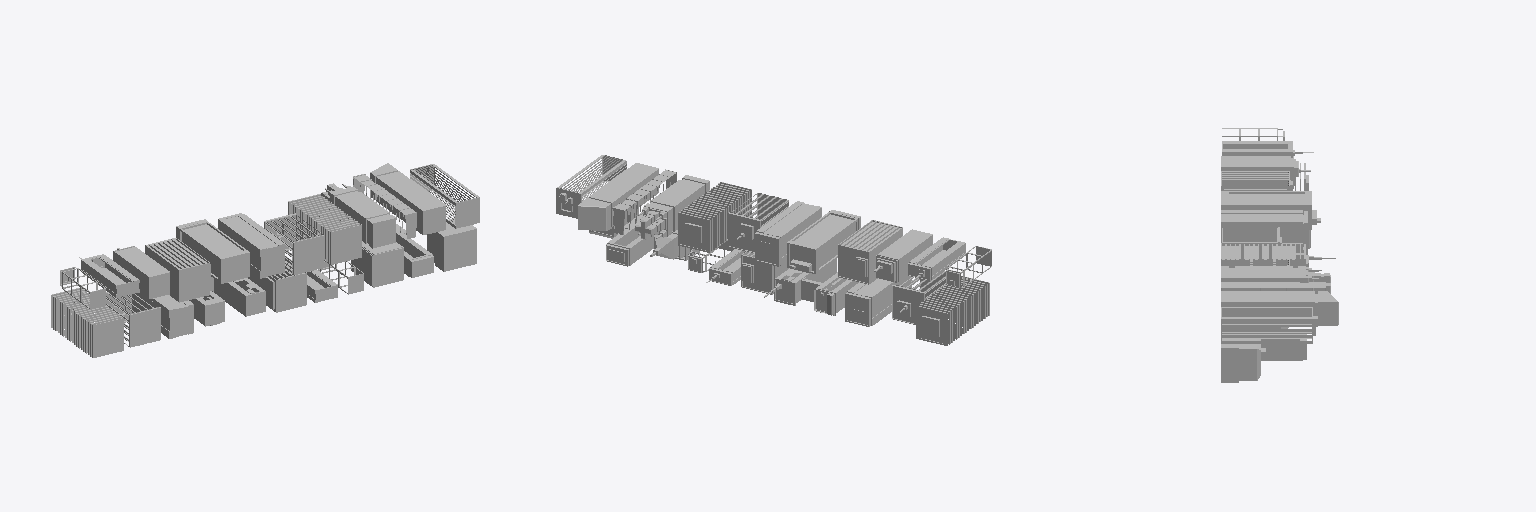
Rendered from building.obj.
3 views of the same model, side by side, from view 1: azimuth 30°, elevation 25°; view 2: azimuth 150°, elevation 25°; view 3: azimuth 270°, elevation 25° (orthographic).
Size of the model in its own units: 246 by 41.12 by 64.19.